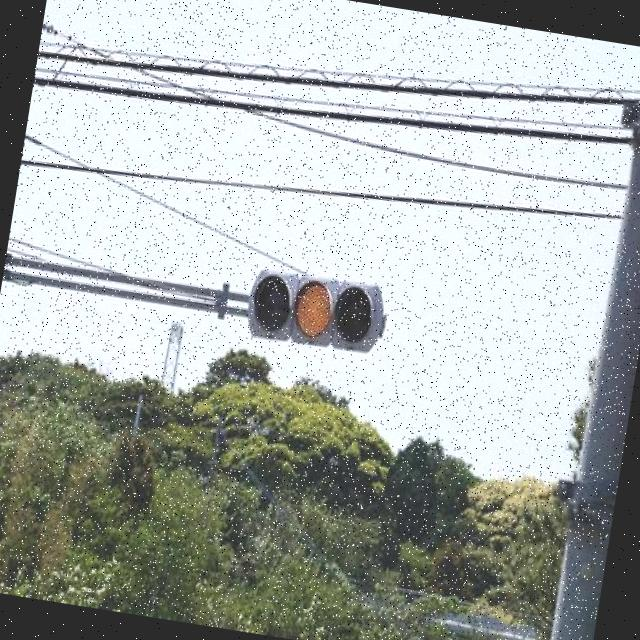yellow_light: (276, 263, 342, 349)
